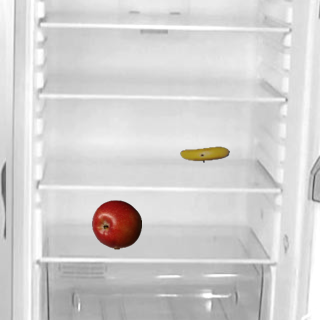Apple Braeburn: (91, 199, 141, 249)
Banana: (179, 129, 229, 179)
